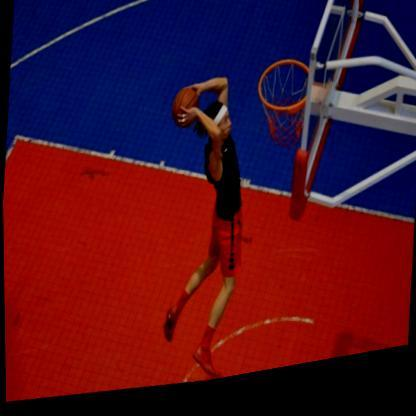basketball: (170, 90, 199, 135)
rim: (252, 65, 309, 167)
